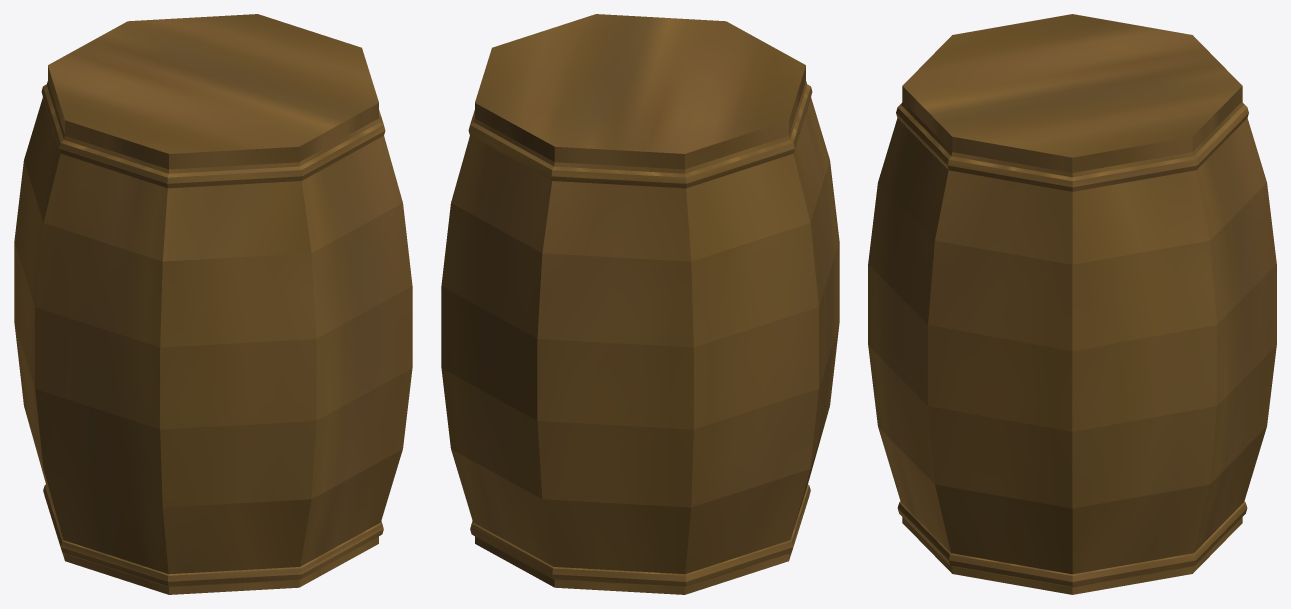
The model's file is BarrelFinished.obj.
3 views of the same model, side by side, from view 1: azimuth 30°, elevation 25°; view 2: azimuth 150°, elevation 25°; view 3: azimuth 270°, elevation 25° (orthographic).
Visible parts, largest first — view 1: Circle; view 2: Circle; view 3: Circle.
Boxes of the visible parts, x1,y1,x2,y2 form: Circle: (14, 14, 412, 594); Circle: (441, 14, 839, 594); Circle: (868, 14, 1276, 594).
Bounding box in the file's own units: 2.4 × 2.84 × 2.4.
